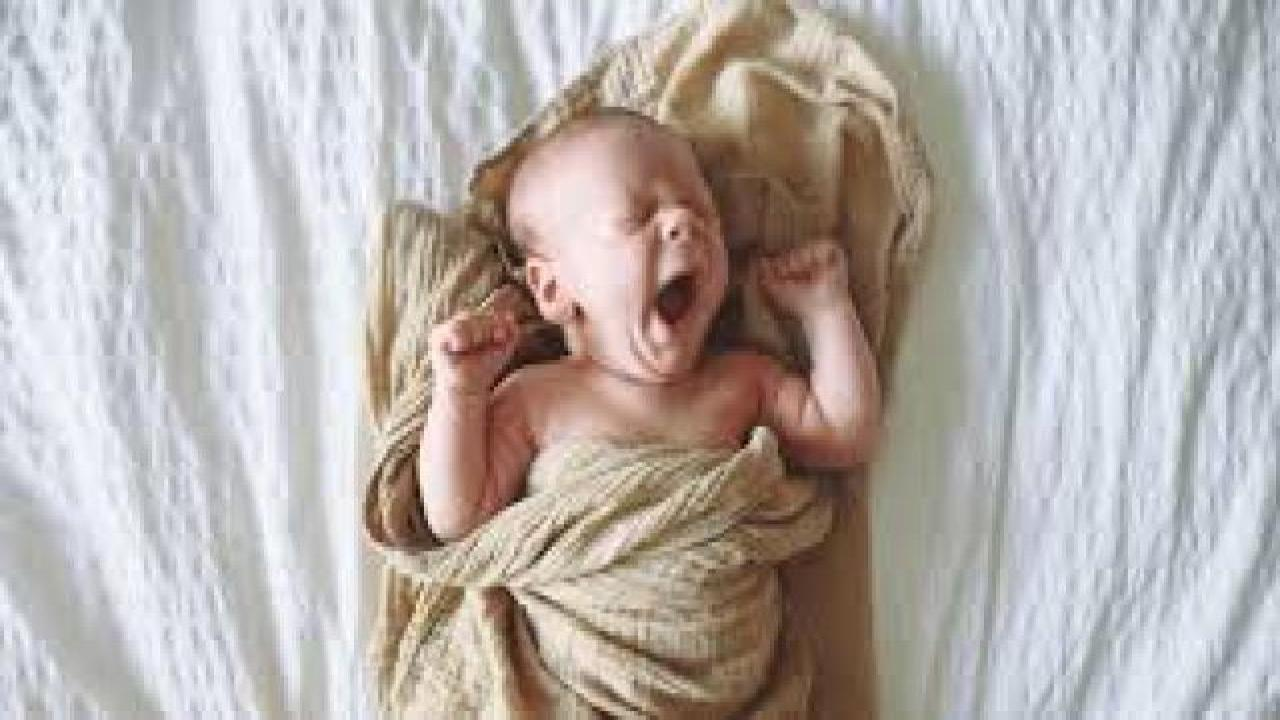hand: (427, 300, 524, 384), (758, 244, 858, 298)
